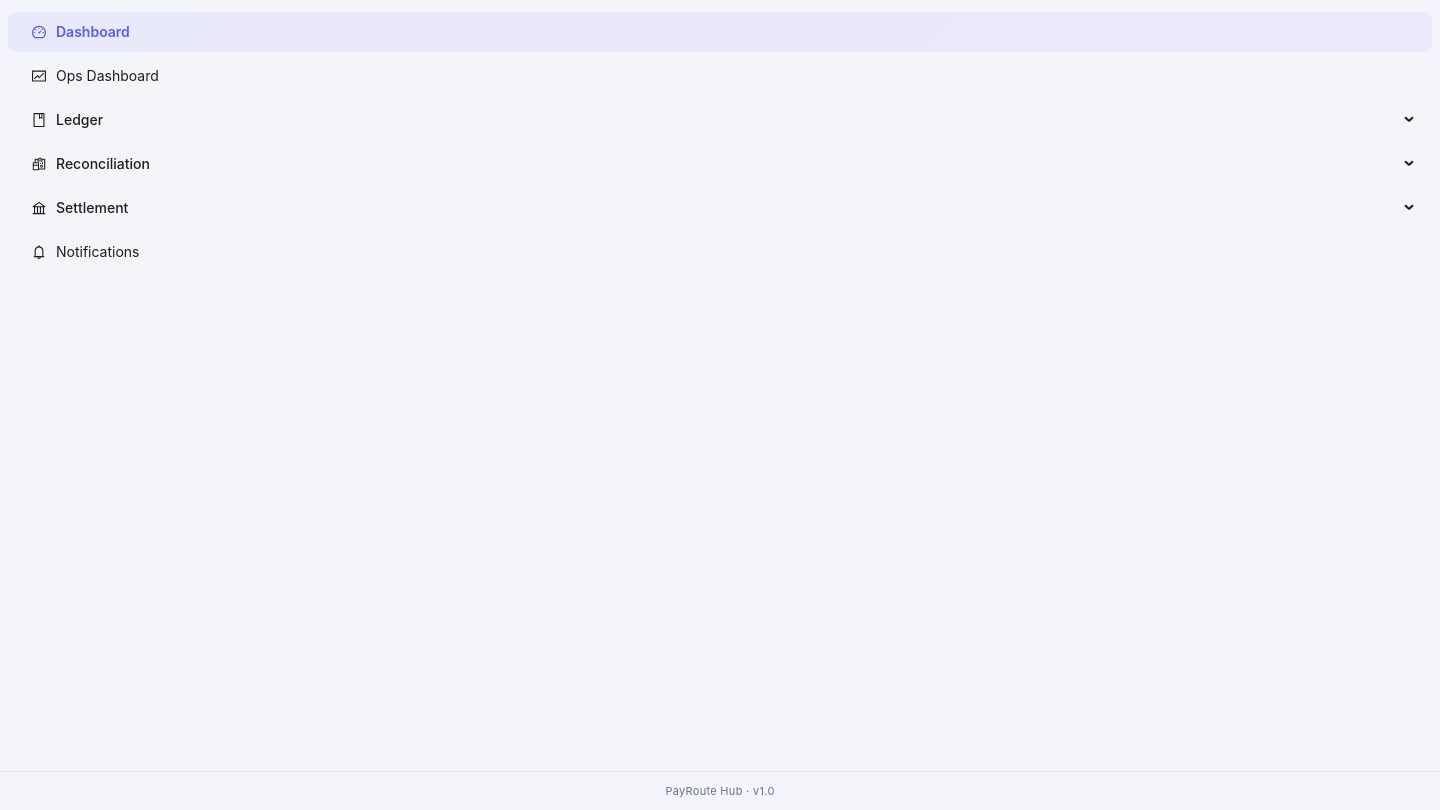
Sidebar role filtering › RECONCILIATION › shows Reconciliation group with Breaks + Returns visible (regression for menu-visibility bug)
Expand the Reconciliation group and verify its children
Click the menu item "Reconciliation" at (91, 164), box [32, 155, 150, 172]
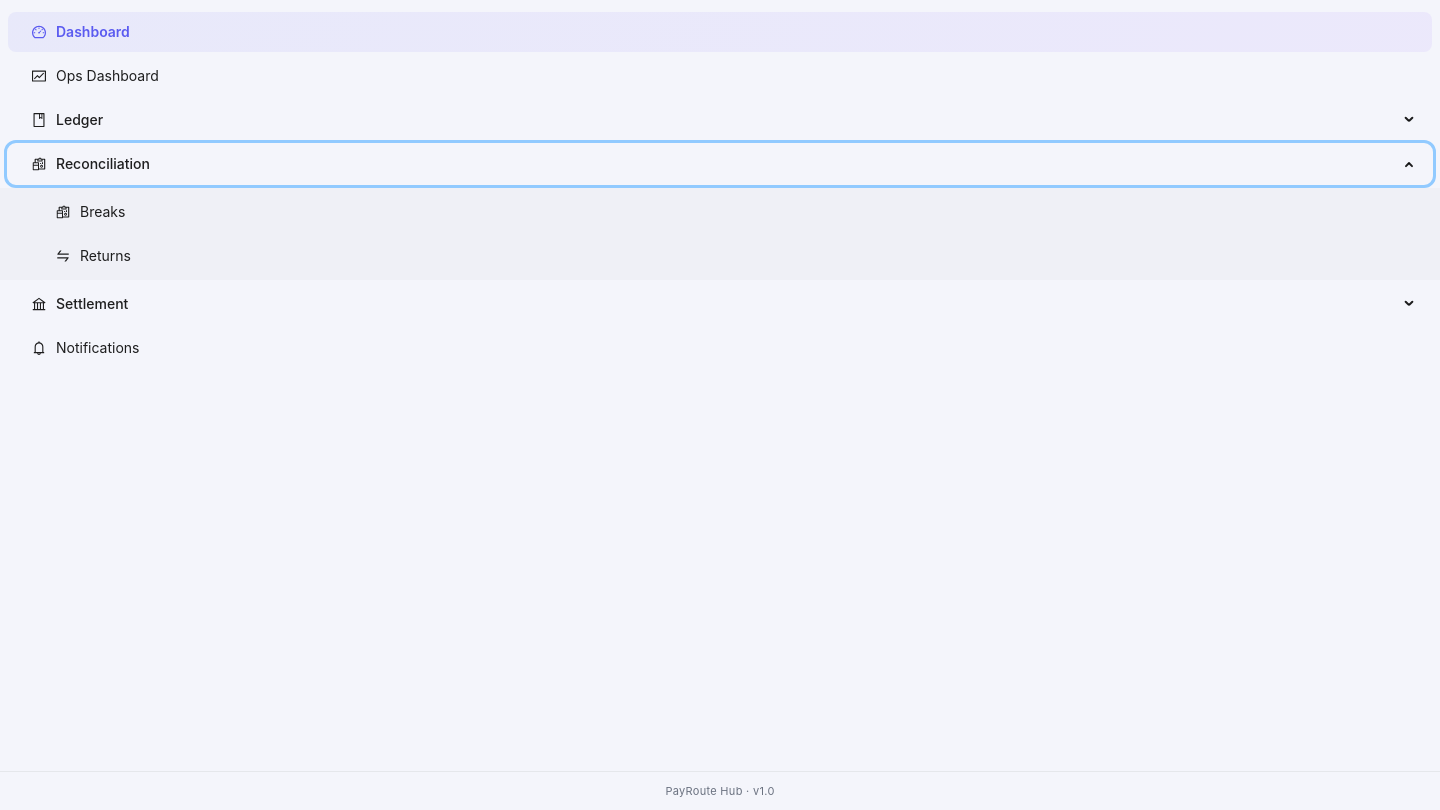
Expected: the text "Breaks" is shown, [80, 203, 125, 220]
Expected: the text "Returns" is shown, [80, 247, 131, 264]
